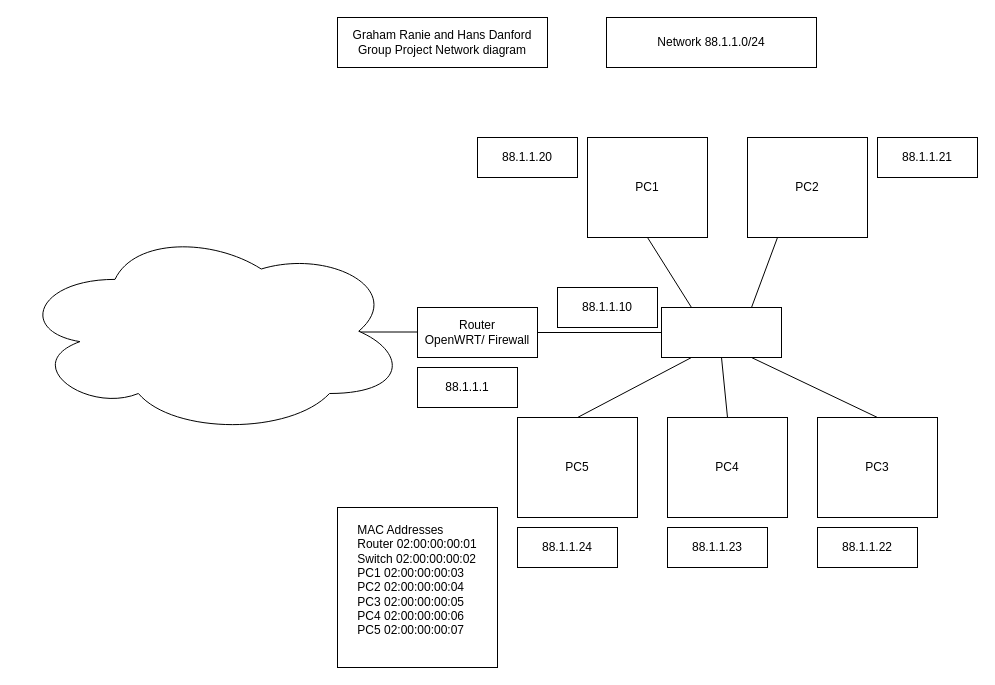
Image size: 995x685. Some labels were removed from this diagram. The shapes that lost their labels are listed below. From the top down, each one's centre as x and y in pixels, then its label:
At [212,330]: "Internet".
At [721,332]: "Switch".
